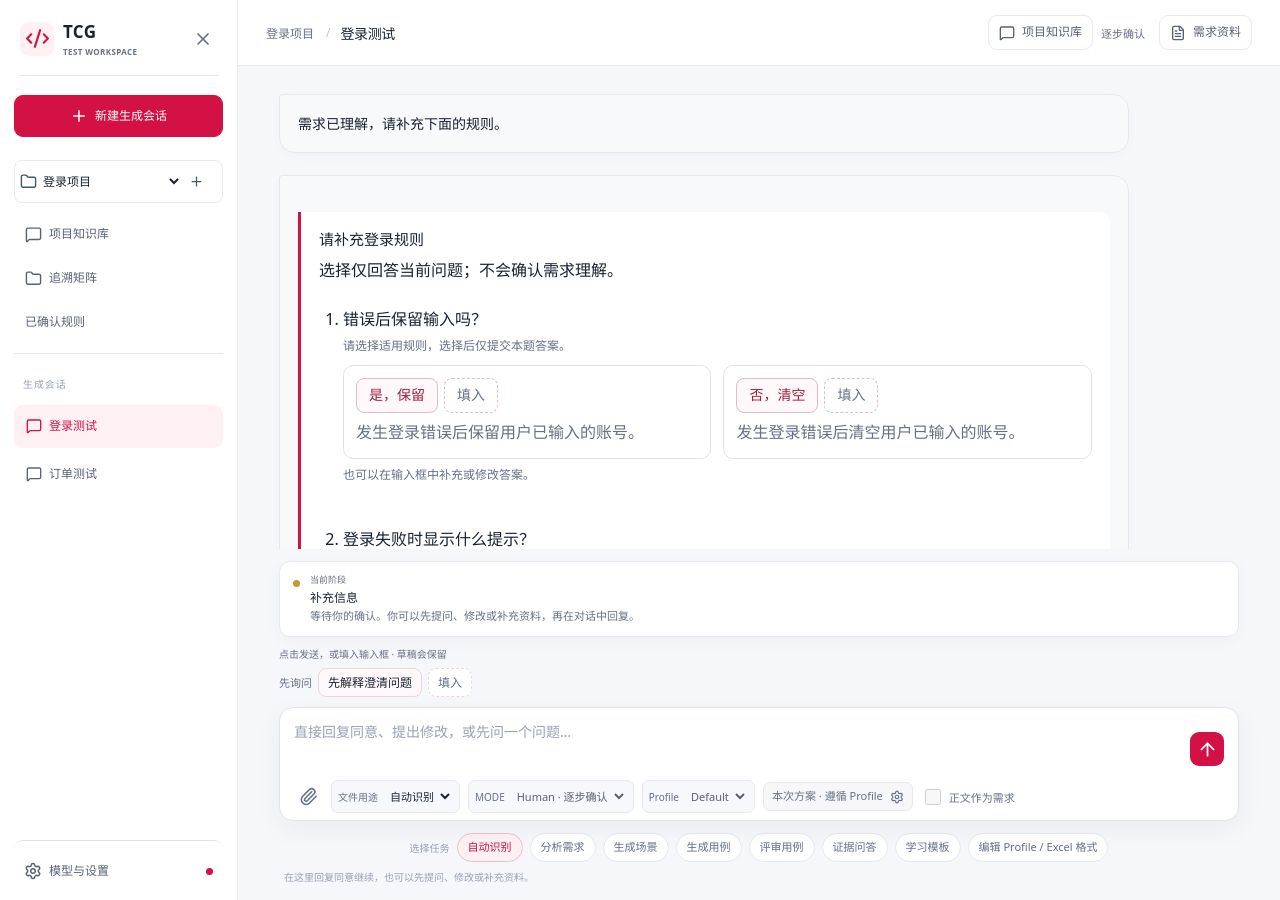
Test: the project trace entry navigates to the exact artifact row without generating or changing any data
Expected: the element named "Q1 错误后保留输入吗？" is shown, [343, 294, 1092, 502]
Type "登录会话的未提交草稿" into the text box named "聊天输入" at (737, 744), box [294, 720, 1180, 768]
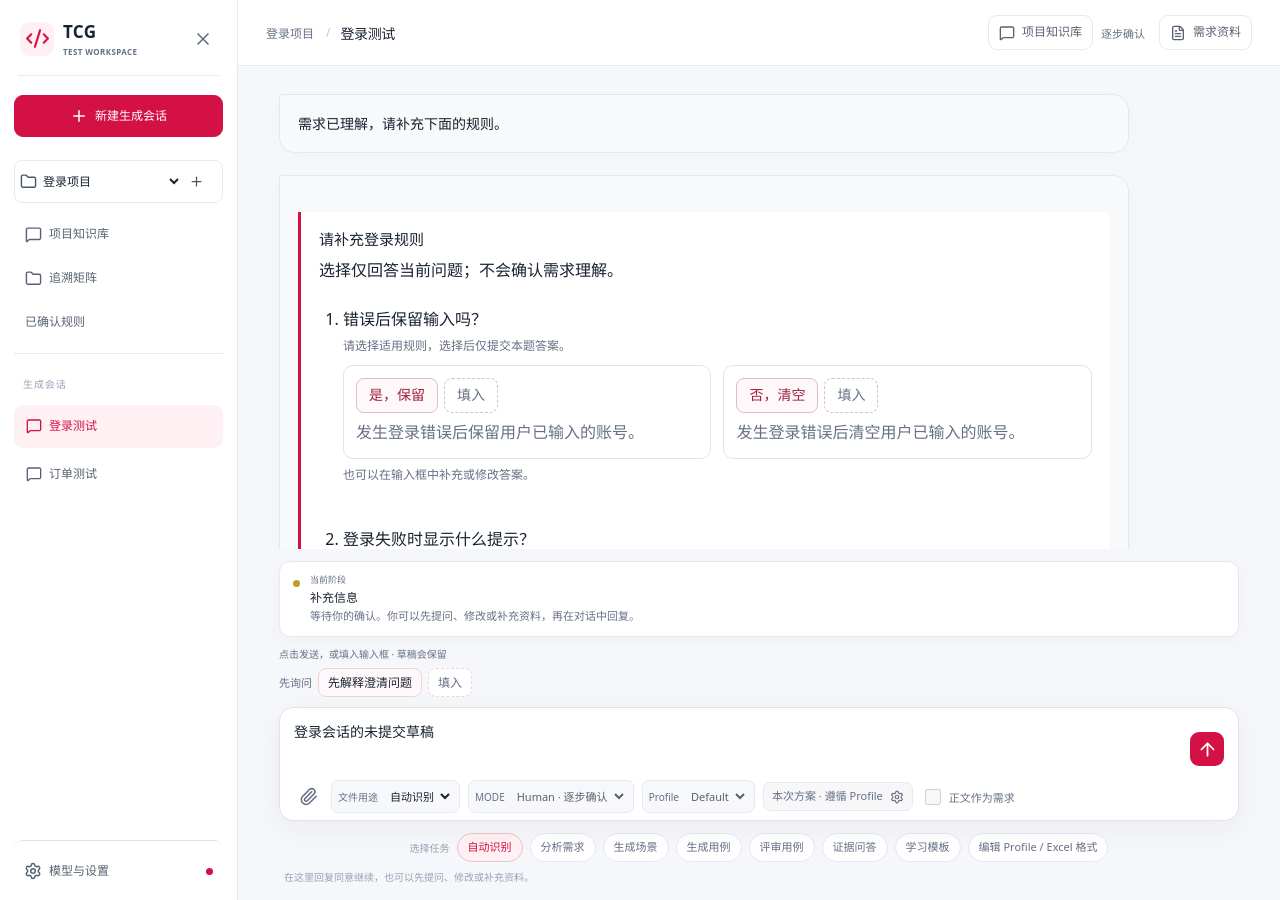
Click the button "追溯矩阵" at (118, 278), box [14, 259, 223, 298]
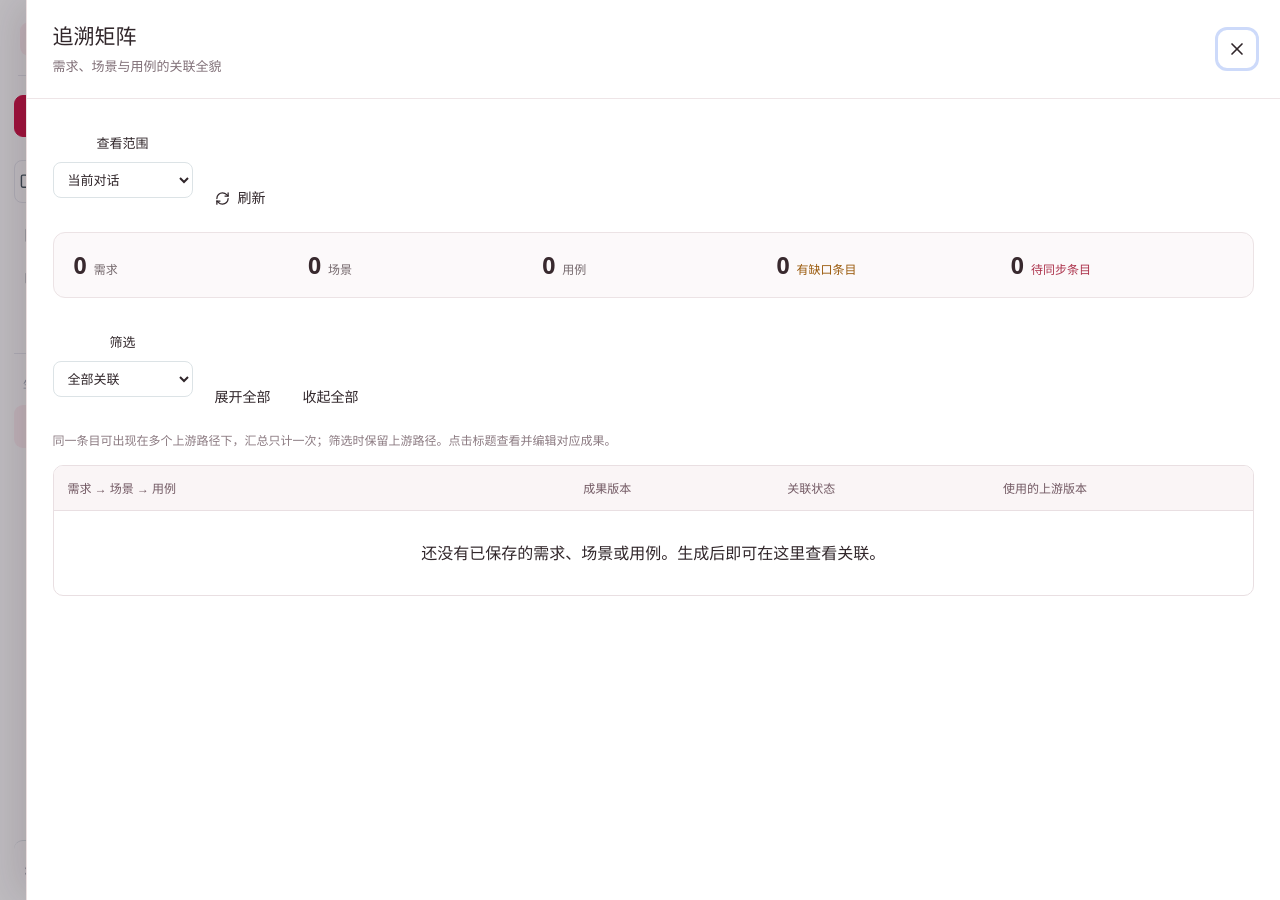
Select "整个项目" in the dropdown named "追溯矩阵范围" at (123, 180), box [53, 162, 193, 198]
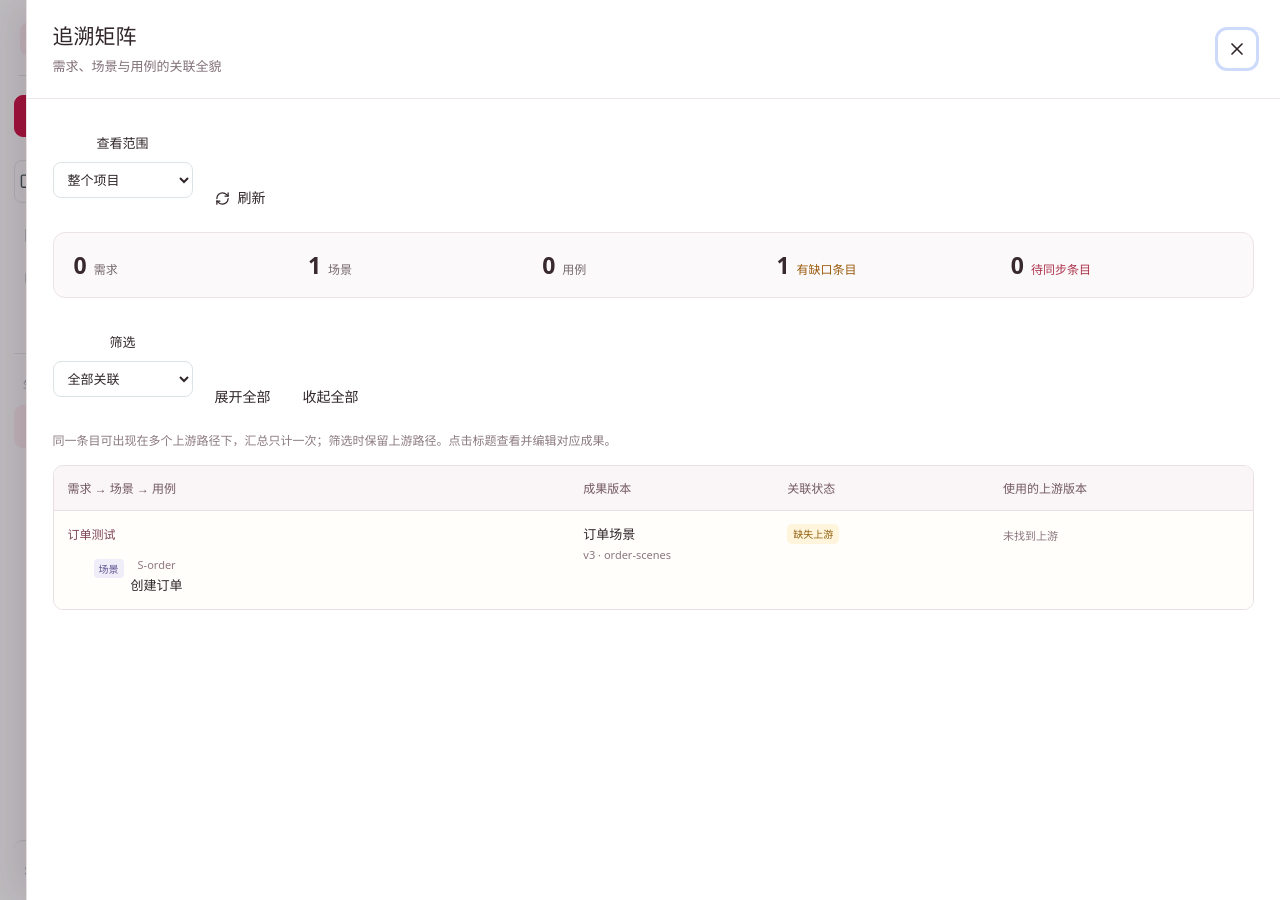
Click the button "S-order 创建订单" at (157, 576), box [131, 557, 183, 596]
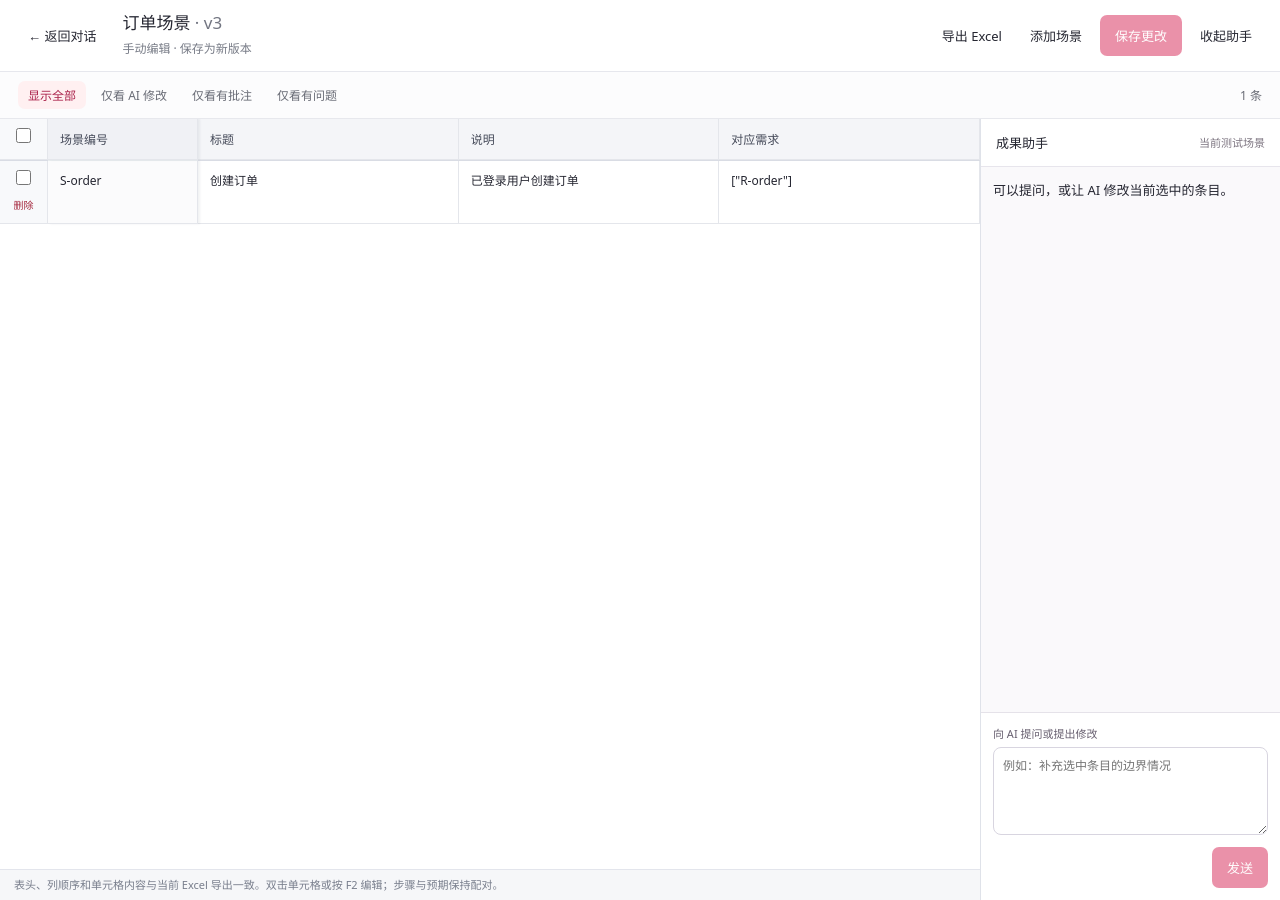
Expected: the text "创建订单" is shown, [210, 172, 258, 189]
Click the button "← 返回对话" at (62, 36), box [18, 18, 106, 53]
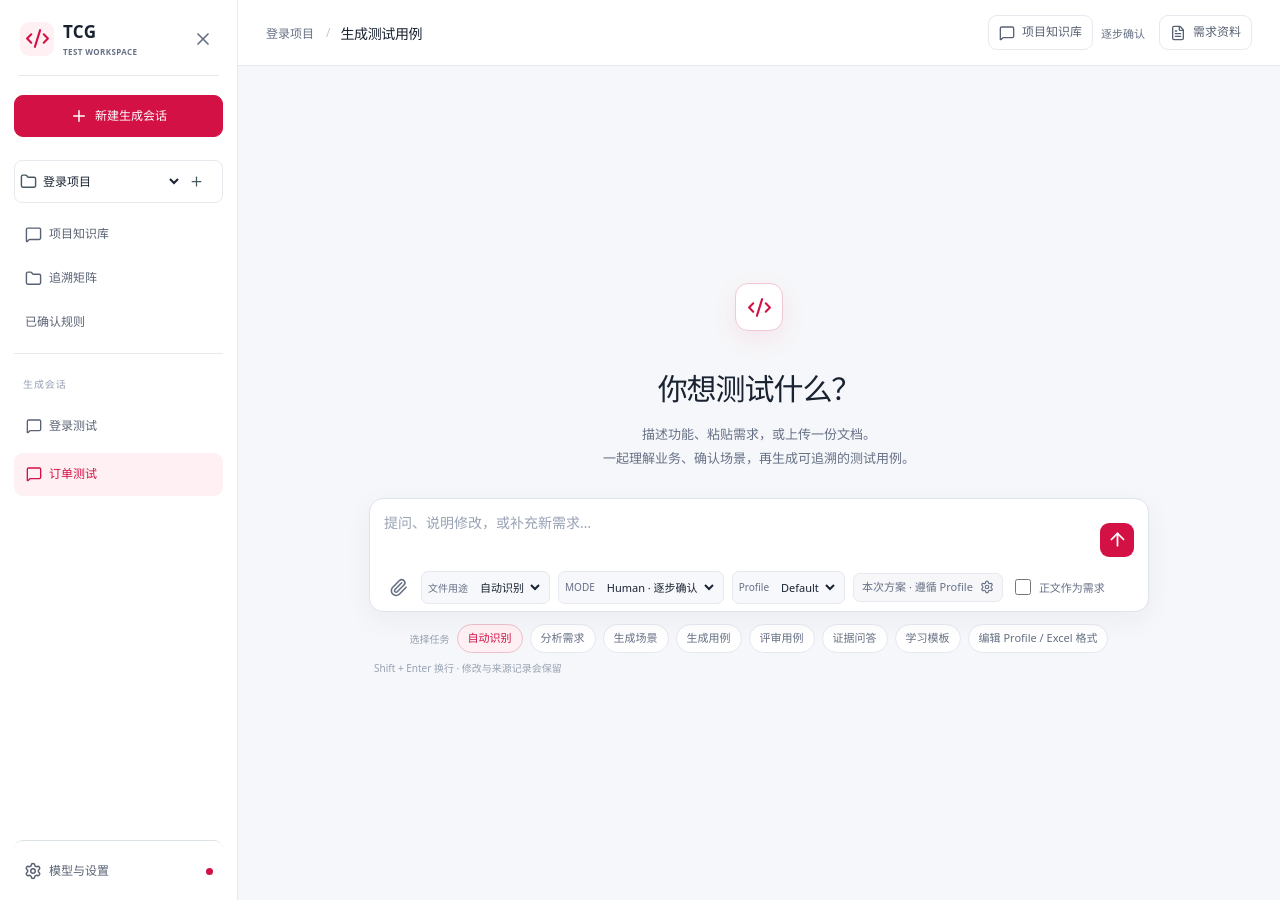
Click the button "登录测试" at (118, 426), box [14, 405, 223, 448]
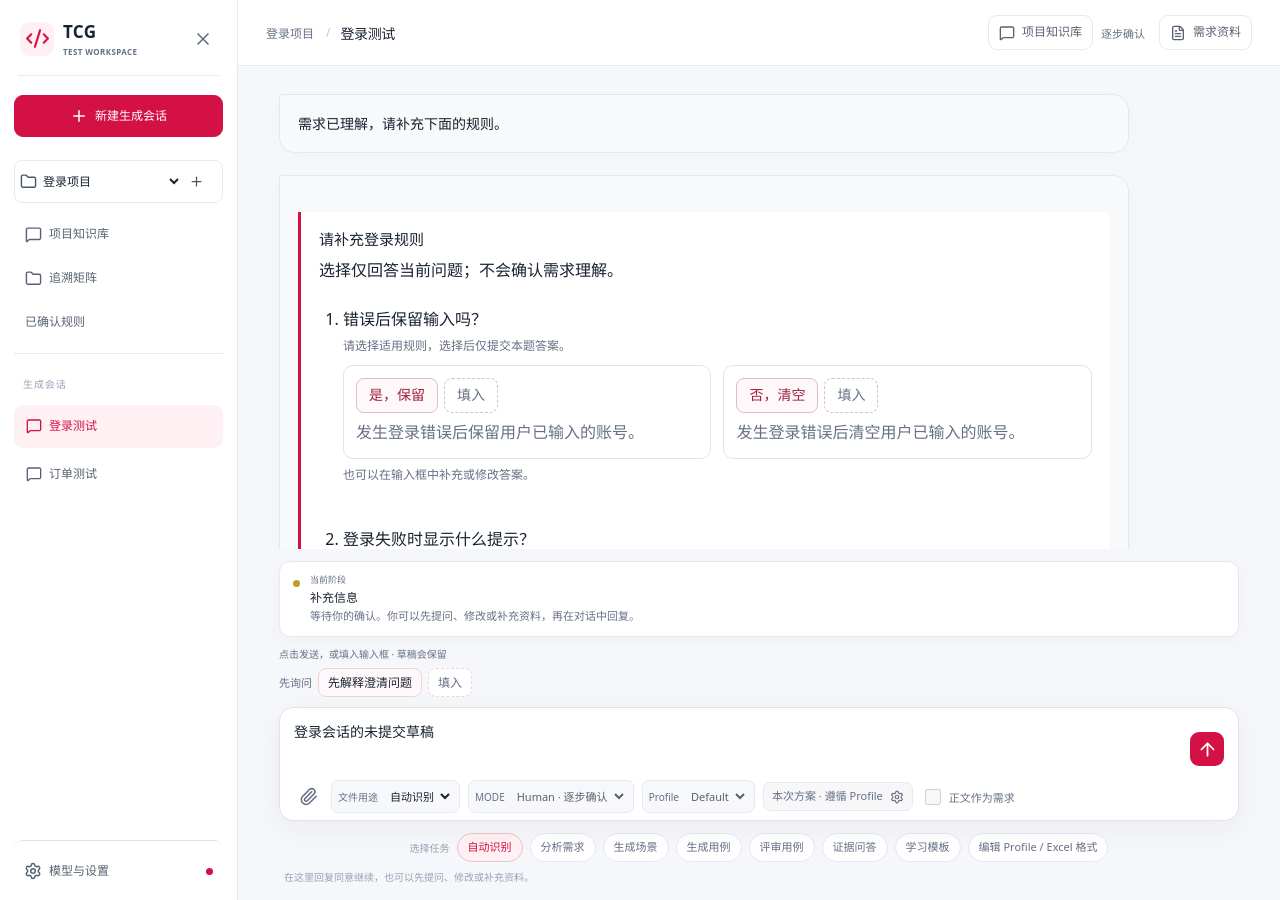
Expected: the element named "Q1 错误后保留输入吗？" is shown, [343, 294, 1092, 502]
